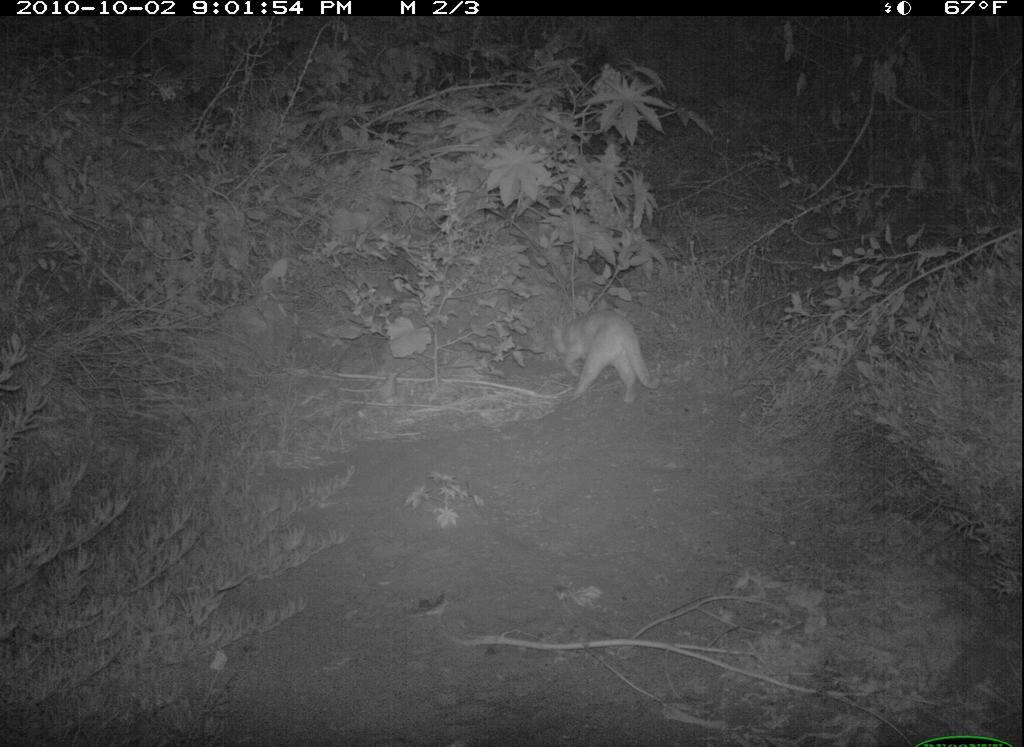cat: (523, 296, 674, 422)
